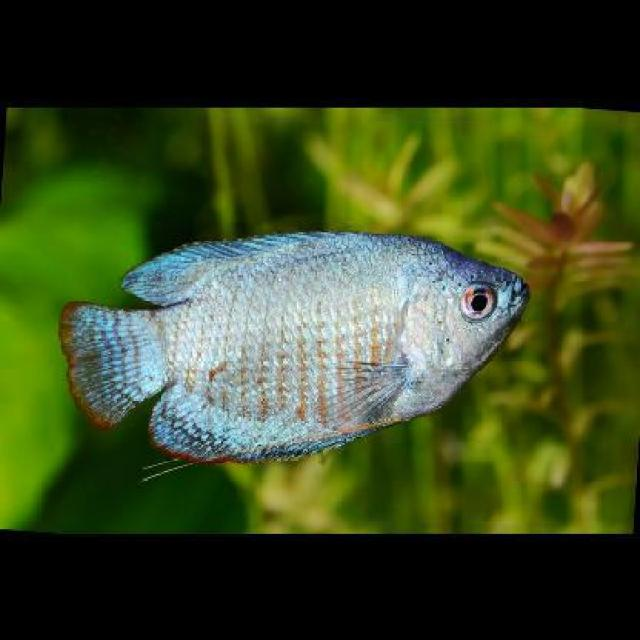Gourami: (56, 225, 538, 482)
